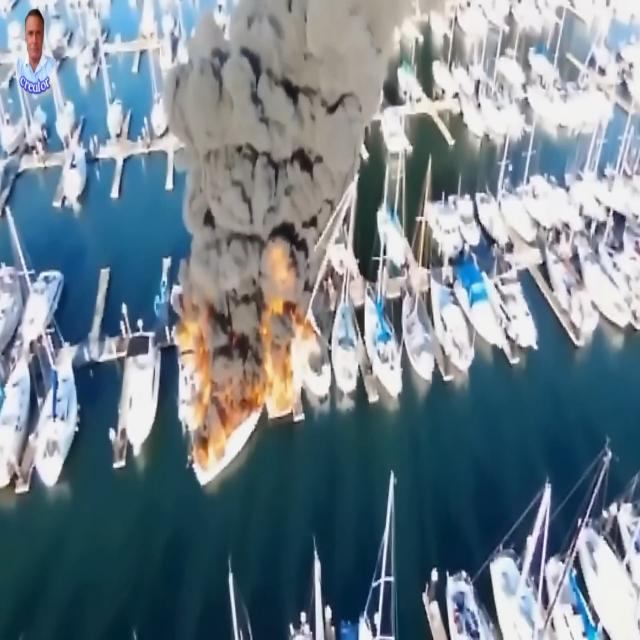fire: (267, 354, 294, 420)
smoke: (186, 1, 312, 288), (161, 14, 342, 178), (240, 0, 375, 114), (213, 253, 259, 393)
